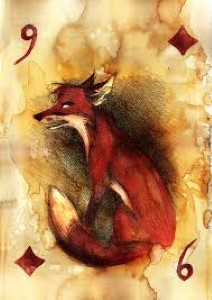NineOfDiamonds: (2, 3, 207, 289)
